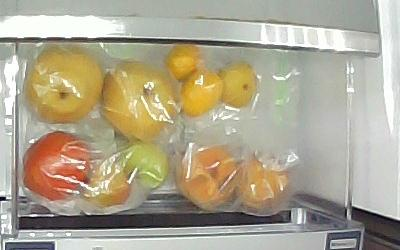peach_vinyl: (180, 148, 238, 209), (238, 159, 290, 212)
pear_vinyl: (101, 60, 176, 144), (27, 46, 103, 124)
tangerine_vinyl: (179, 71, 224, 117), (221, 61, 258, 108), (167, 43, 201, 80)
tomato_vinyl: (22, 132, 90, 199), (121, 145, 168, 191), (85, 168, 130, 206)
